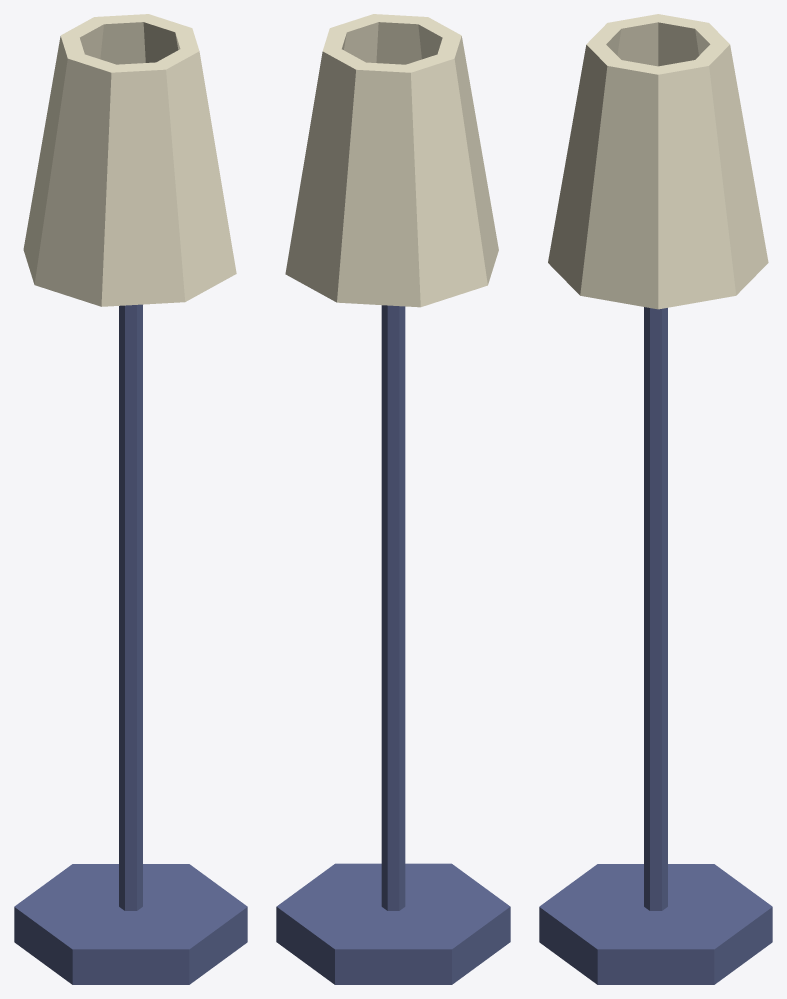
The model's file is Lamp2.glb.
3 views of the same model, side by side, from view 1: azimuth 30°, elevation 25°; view 2: azimuth 150°, elevation 25°; view 3: azimuth 270°, elevation 25° (orthographic).
Parts seen in each view (by area): view 1: Top.001, Metal.001; view 2: Top.001, Metal.001; view 3: Top.001, Metal.001.
Boxes of the visible parts, x1,y1,x2,y2 form: Top.001: (23, 14, 236, 306); Metal.001: (14, 304, 247, 984); Top.001: (285, 14, 498, 307); Metal.001: (276, 305, 510, 984); Top.001: (548, 14, 768, 309); Metal.001: (539, 307, 772, 984).
Size of the model in its own units: 0.2313 by 1.04 by 0.2449.
